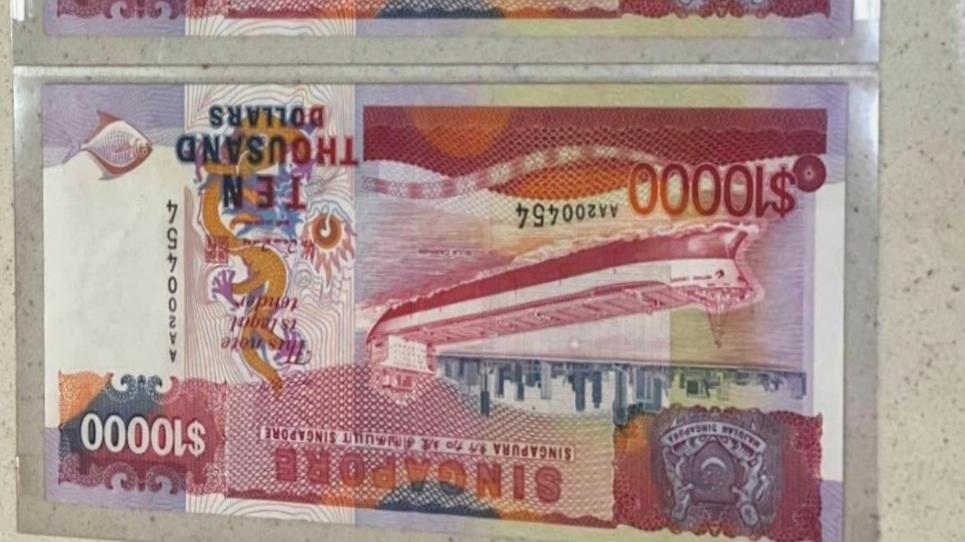10000SingaporeDollar: (41, 87, 843, 542)
